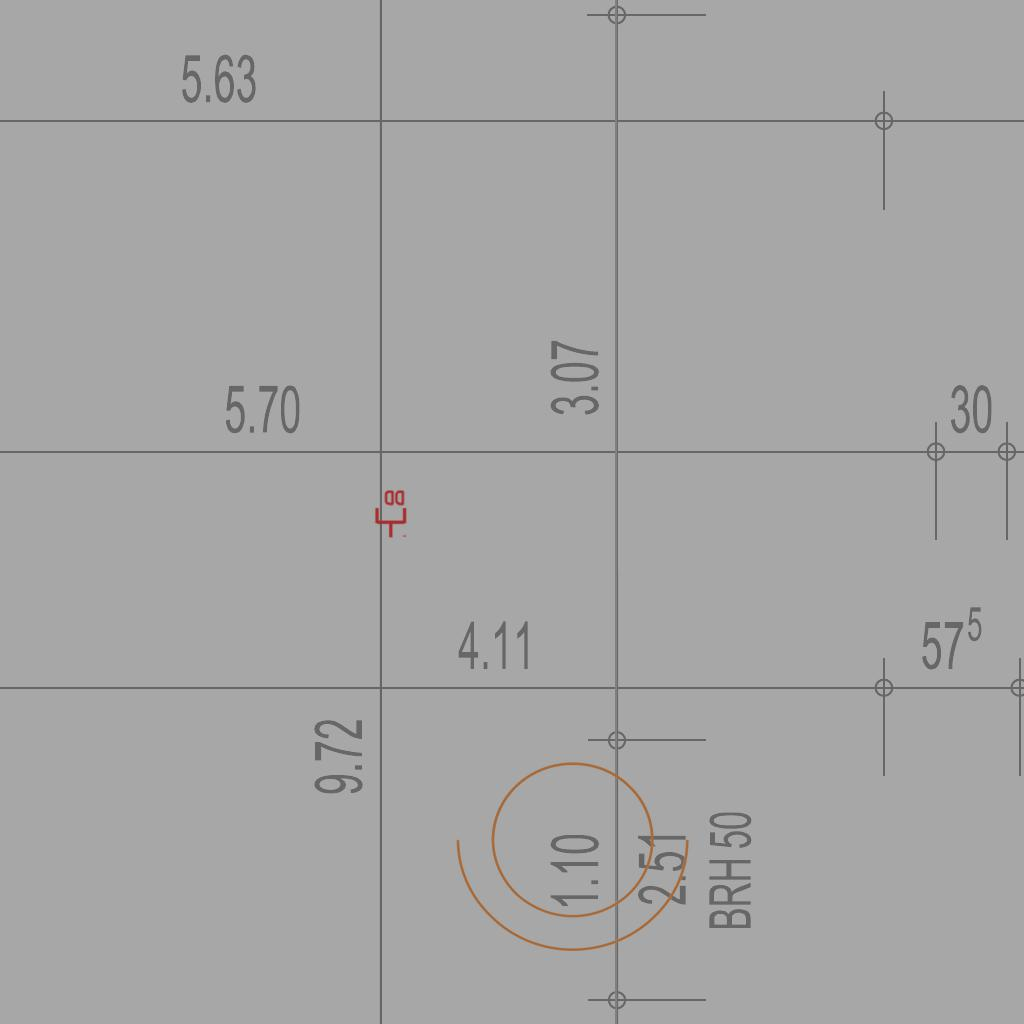Datenanschluss_zweifach: (373, 488, 407, 539)
Scheinwerfer_fuer_Alarmbeleuchtung: (447, 737, 711, 962)
